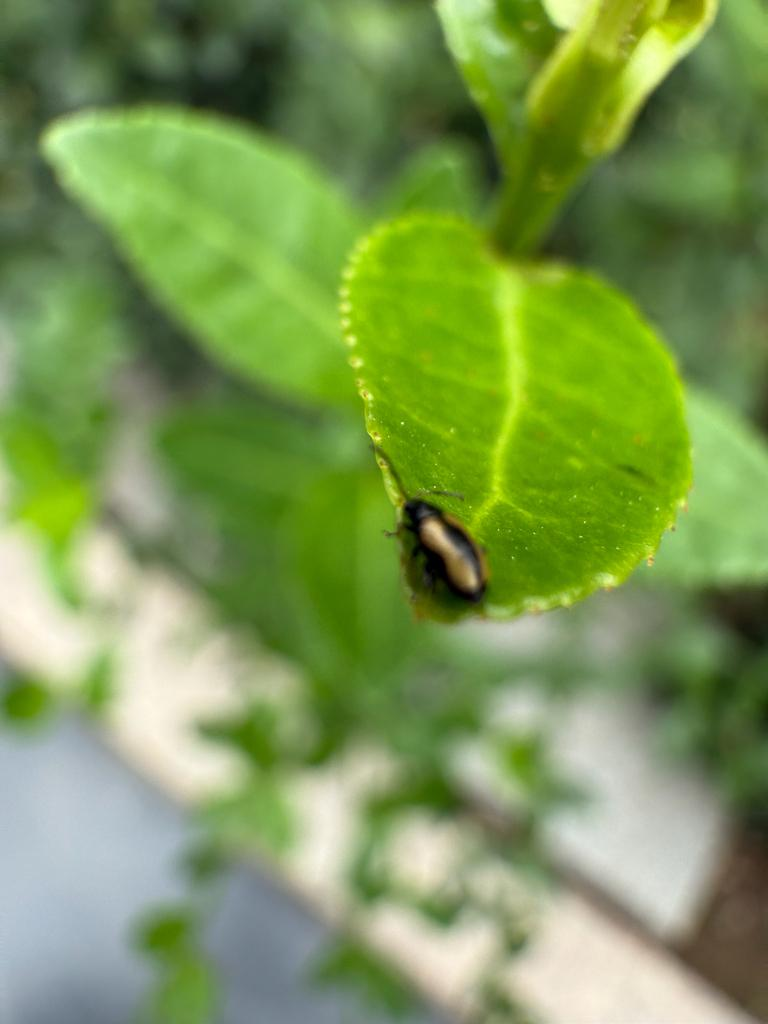flea_beetle: (334, 404, 535, 646)
